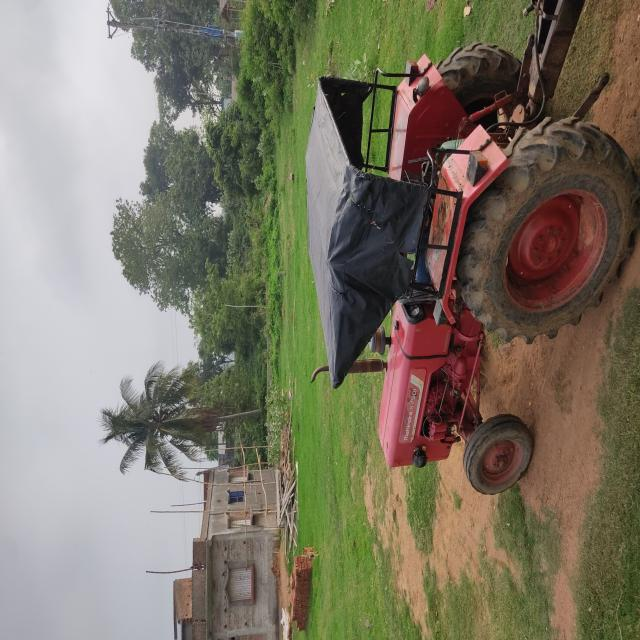Tractor: (100, 391, 455, 640)
